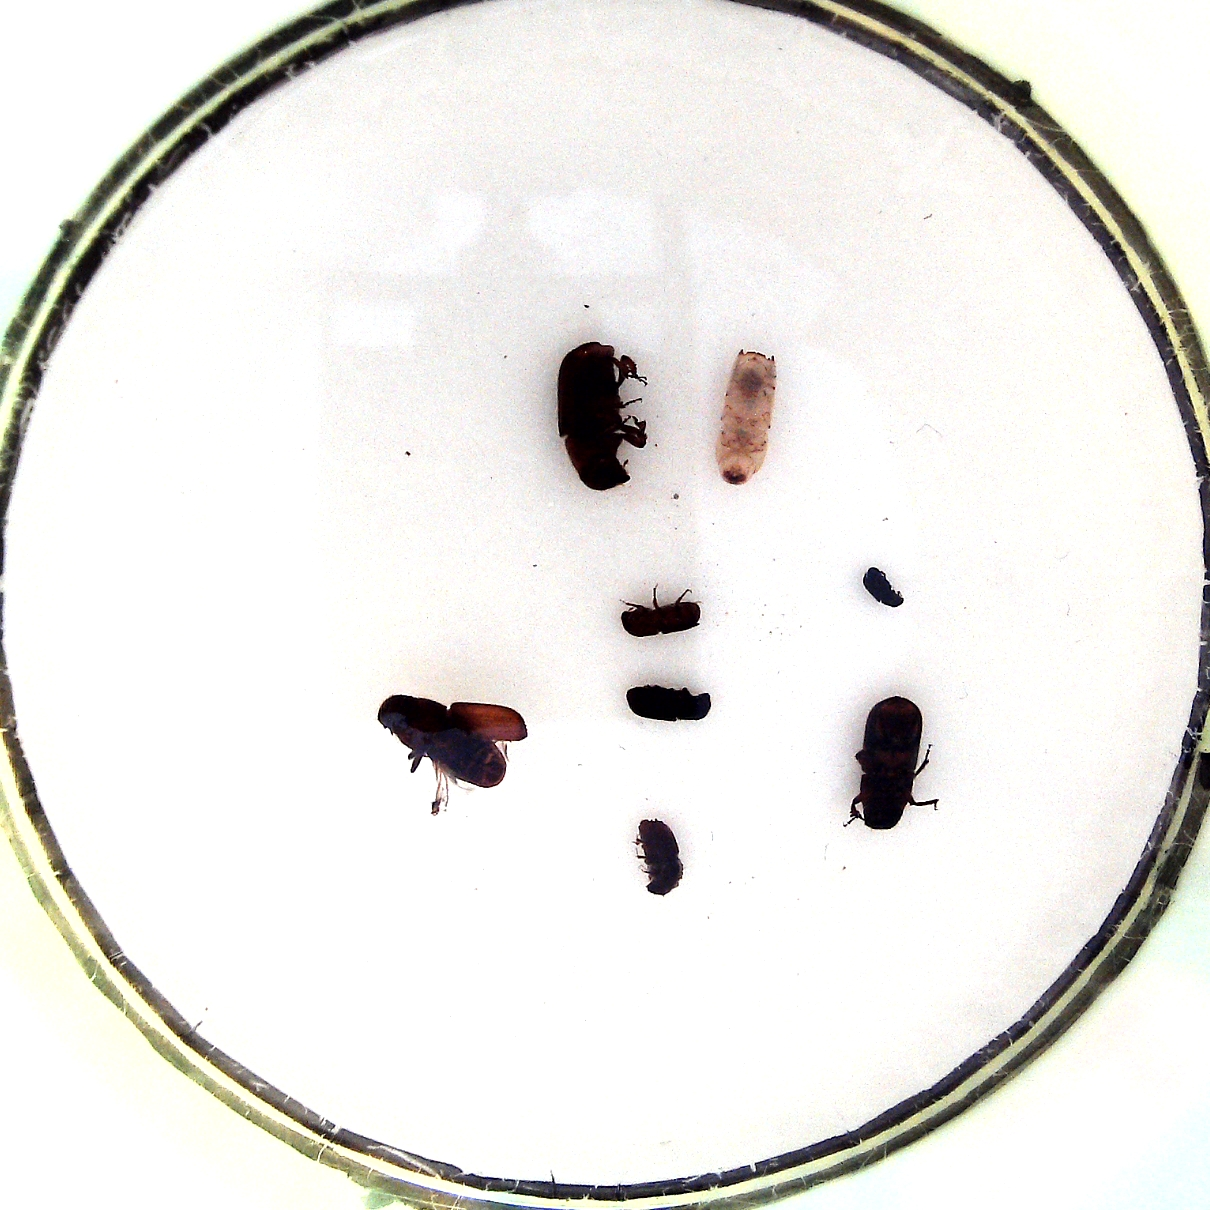Boerner: (714, 348, 780, 488)
Leconte: (373, 690, 531, 807), (557, 338, 652, 490), (847, 695, 937, 833)
Linnaeus: (634, 813, 690, 898)
acuminatus: (616, 587, 705, 638)
armandi: (621, 681, 716, 725)
coleoptera: (857, 563, 907, 613)
